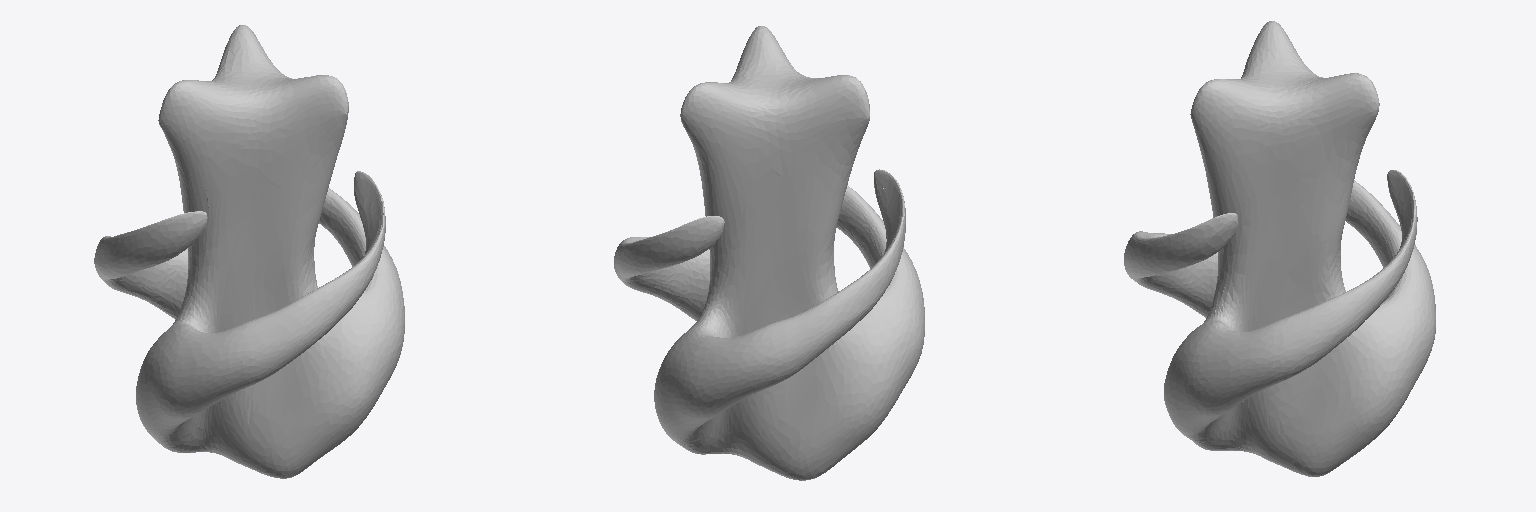
The model's file is move-pillar-2.obj.
3 renders of one model, left to right at view 1: azimuth 30°, elevation 25°; view 2: azimuth 150°, elevation 25°; view 3: azimuth 270°, elevation 25°, orthographic.
Parts seen in each view (by area): view 1: Quad_Sphere; view 2: Quad_Sphere; view 3: Quad_Sphere.
Part boxes in pixels (x1,y1,x2,y2): Quad_Sphere: (94,25,404,478); Quad_Sphere: (614,26,924,480); Quad_Sphere: (1124,21,1435,476).
Bounding box in the file's own units: 3.68 × 5.08 × 3.68.